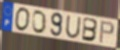9: (49, 12, 64, 38)
B: (81, 16, 99, 43)
O: (14, 7, 32, 33), (32, 10, 47, 35)
P: (99, 20, 115, 44)
U: (64, 15, 82, 40)
